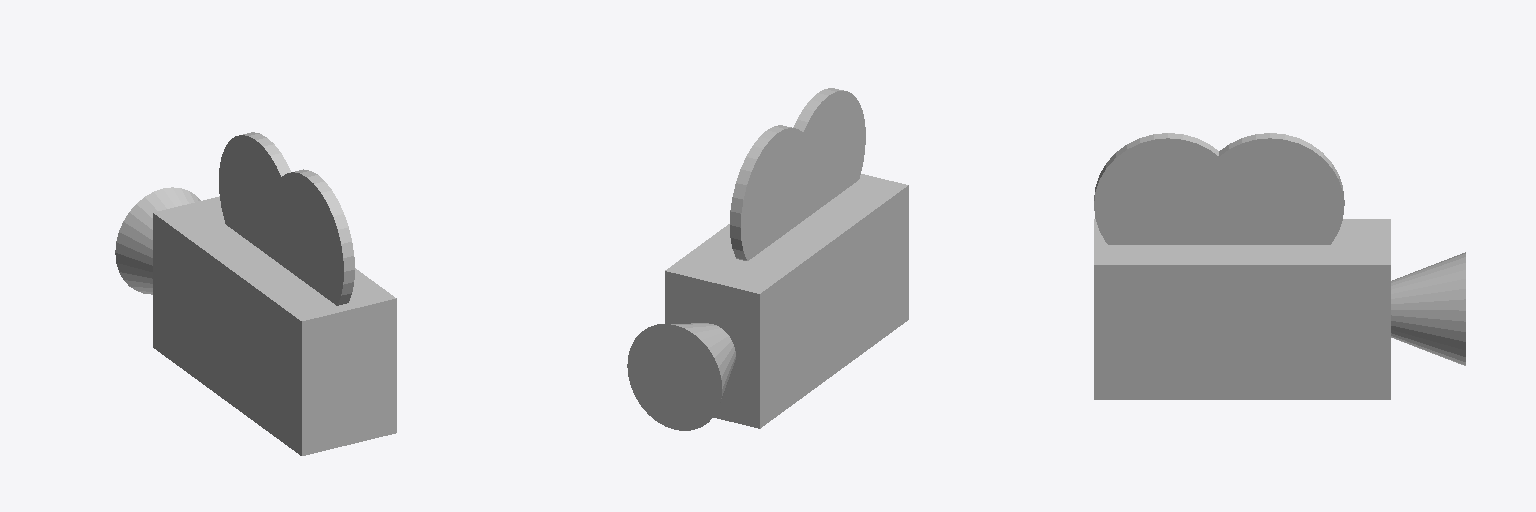
File: camera.obj
3 views of the same model, side by side, from view 1: azimuth 30°, elevation 25°; view 2: azimuth 150°, elevation 25°; view 3: azimuth 270°, elevation 25° (orthographic).
Parts seen in each view (by area): view 1: Camera, Cylinder.001, Cylinder, Cone; view 2: Camera, Cone, Cylinder, Cylinder.001; view 3: Camera, Cylinder, Cylinder.001, Cone.
Boxes of the visible parts, <box> form: Camera: <box>153,196,396,455</box>; Cylinder.001: <box>270,169,354,305</box>; Cylinder: <box>219,132,292,267</box>; Cone: <box>115,187,200,294</box>; Camera: <box>665,174,908,428</box>; Cone: <box>627,323,735,430</box>; Cylinder: <box>730,125,814,260</box>; Cylinder.001: <box>792,88,865,219</box>; Camera: <box>1094,219,1390,399</box>; Cylinder: <box>1196,133,1344,244</box>; Cylinder.001: <box>1094,133,1240,244</box>; Cone: <box>1391,252,1465,365</box>.
Size of the model in its own units: 1.48 by 3.58 by 5.01.